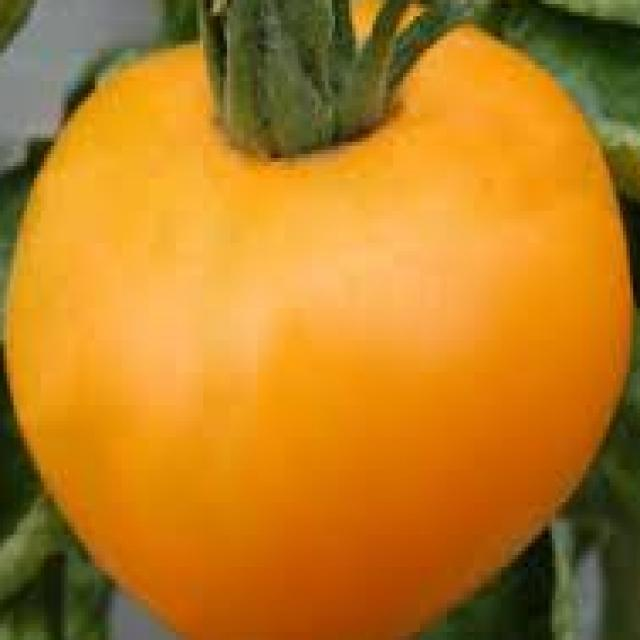Healthy: (4, 14, 637, 640)
